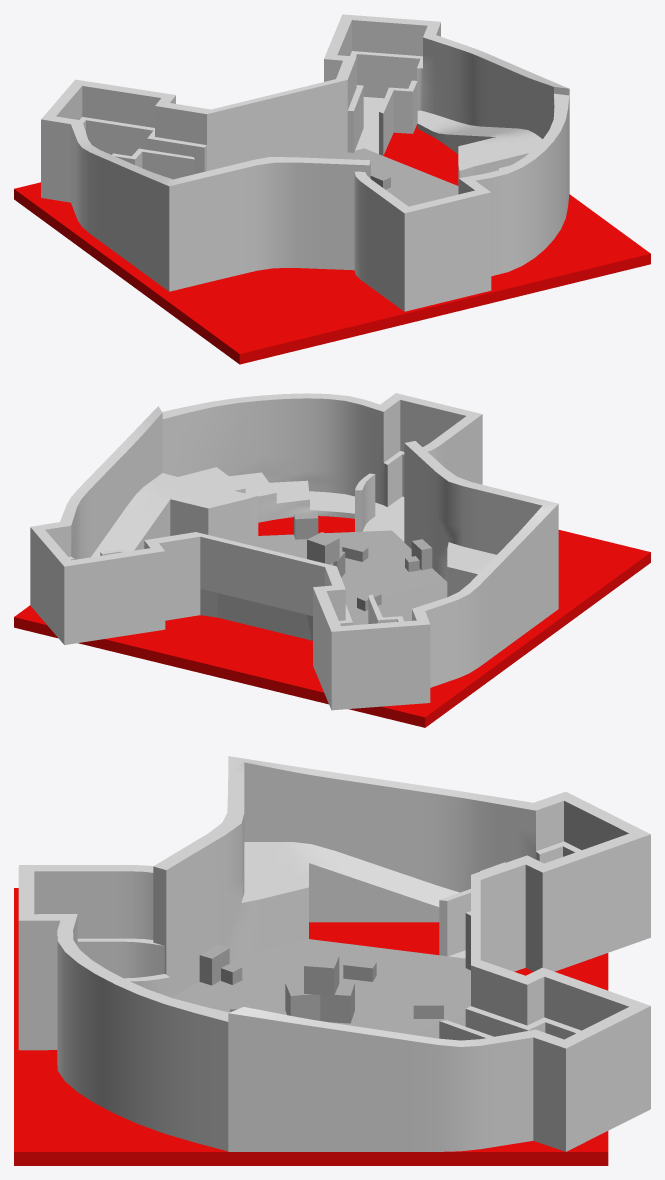
File: Enviroment.fbx
3 renders of one model, top to bottom at view 1: azimuth 30°, elevation 25°; view 2: azimuth 150°, elevation 25°; view 3: azimuth 270°, elevation 25°, orthographic. The views are drawn at different scales.
Visible parts, largest first — view 1: ZoneA, DeadZone, ZoneB, ZoneC, Center; view 2: ZoneA, ZoneC, ZoneB, DeadZone, Center; view 3: ZoneA, ZoneB, ZoneC, DeadZone, Center.
Boxes of the visible parts, left/top/right/bottom form: ZoneA: left=41, top=79, right=370, bottom=291; DeadZone: left=14, top=124, right=650, bottom=364; ZoneB: left=324, top=14, right=569, bottom=194; ZoneC: left=354, top=93, right=569, bottom=311; Center: left=325, top=148, right=458, bottom=206; ZoneA: left=196, top=441, right=558, bottom=710; ZoneC: left=162, top=393, right=482, bottom=541; ZoneB: left=30, top=406, right=258, bottom=644; DeadZone: left=14, top=516, right=650, bottom=727; Center: left=235, top=513, right=447, bottom=625; ZoneA: left=153, top=756, right=650, bottom=997; ZoneB: left=228, top=960, right=650, bottom=1151; ZoneC: left=18, top=865, right=228, bottom=1151; DeadZone: left=14, top=888, right=608, bottom=1165; Center: left=172, top=939, right=470, bottom=1038.
Bounding box in the file's own units: 4085 × 4163 × 1101.
